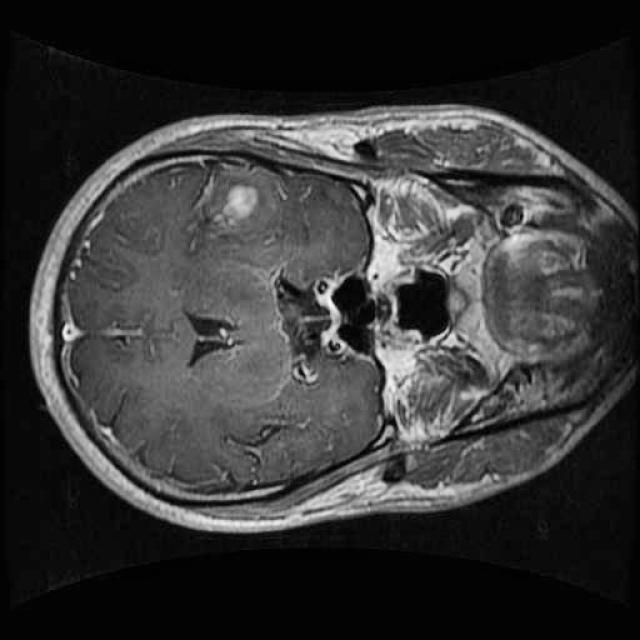Non-Tumor: (188, 170, 281, 245)
